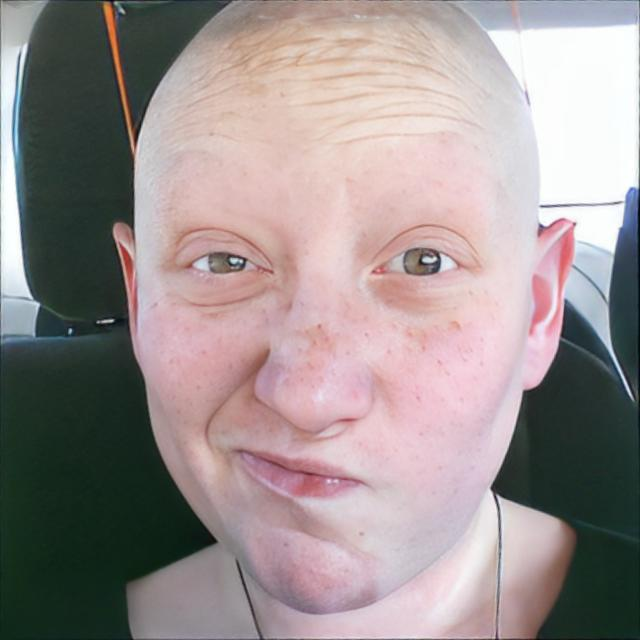disgust: (133, 2, 532, 617)
